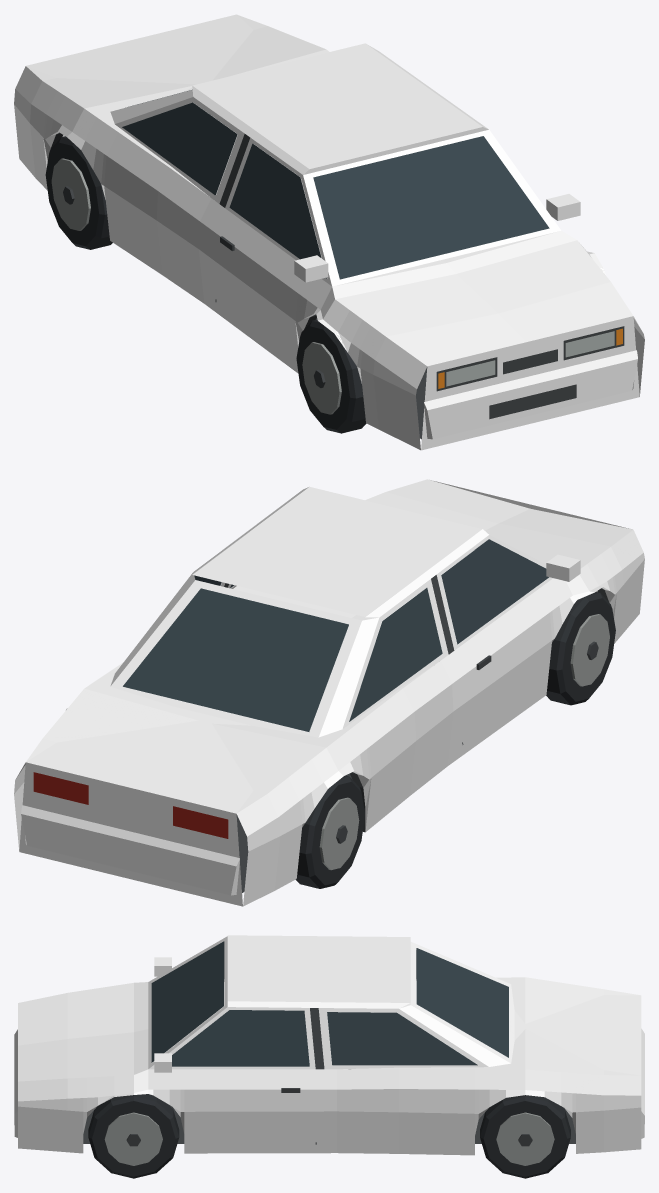
The model's file is whitlock_wildfire.glb.
The picture shows the model from 3 angles, top to bottom: view 1: azimuth 30°, elevation 25°; view 2: azimuth 150°, elevation 25°; view 3: azimuth 270°, elevation 25°; orthographic projection. The views are drawn at different scales.
Visible parts, largest first — view 1: whitlock_wildfire; view 2: whitlock_wildfire; view 3: whitlock_wildfire.
Part boxes in pixels (x1=…): whitlock_wildfire: x1=14, y1=14, x2=644, y2=450; whitlock_wildfire: x1=14, y1=479, x2=644, y2=906; whitlock_wildfire: x1=14, y1=935, x2=644, y2=1178.
Bounding box in the file's own units: 1.7 × 1.21 × 4.3.
Materials: 8 (1 with a texture image).
